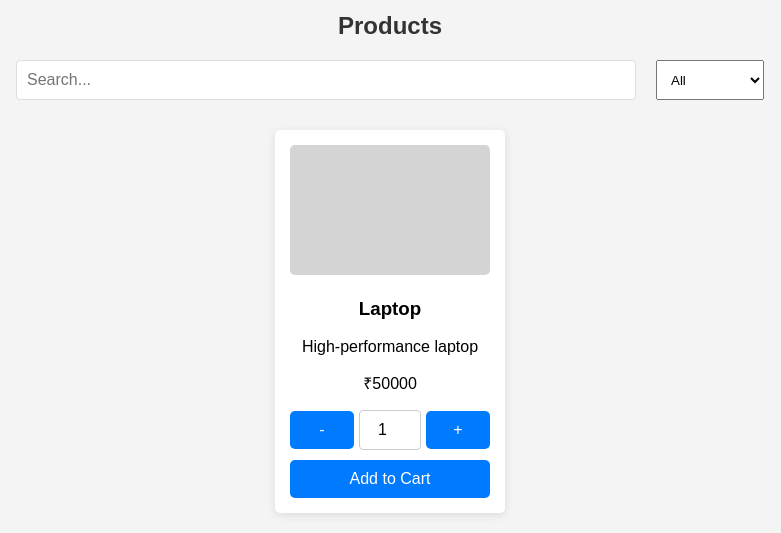
Test: MenuCart Component › handles quantity changes
Check: the heading "Laptop" is shown, box [359, 298, 421, 319]
Click the button "+".
click(458, 430)  # box [426, 411, 490, 449]
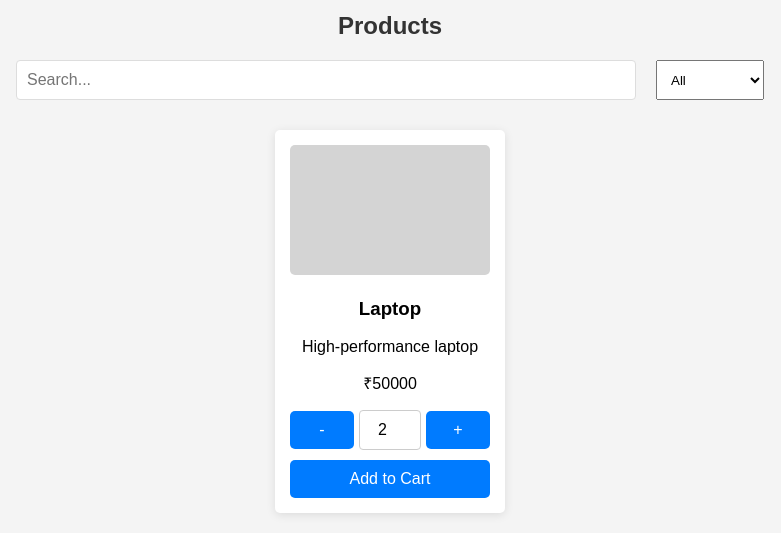
Check: the number field showing "1" holds "2", box [359, 410, 421, 450]
Click the button "-".
click(322, 430)  # box [290, 411, 354, 449]
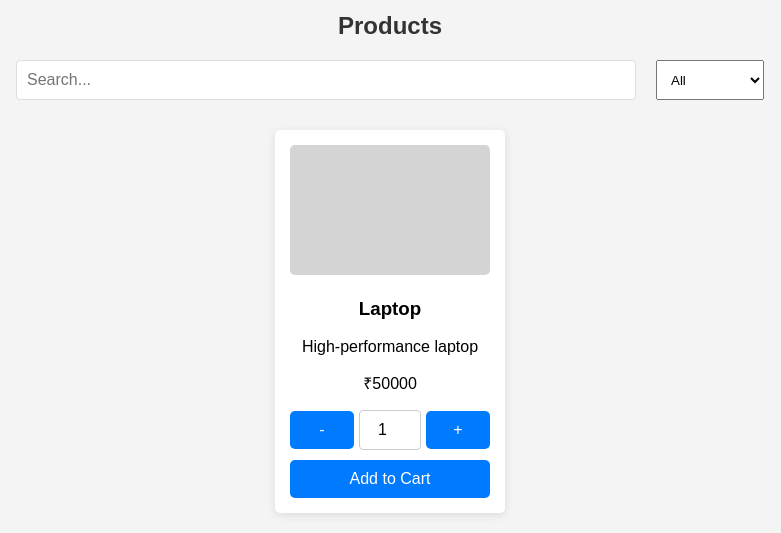
Check: the number field showing "1" holds "1", box [359, 410, 421, 450]
